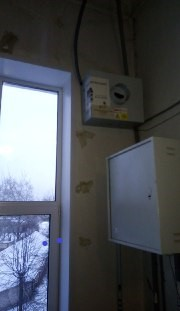shta-3: (80, 66, 147, 131)
